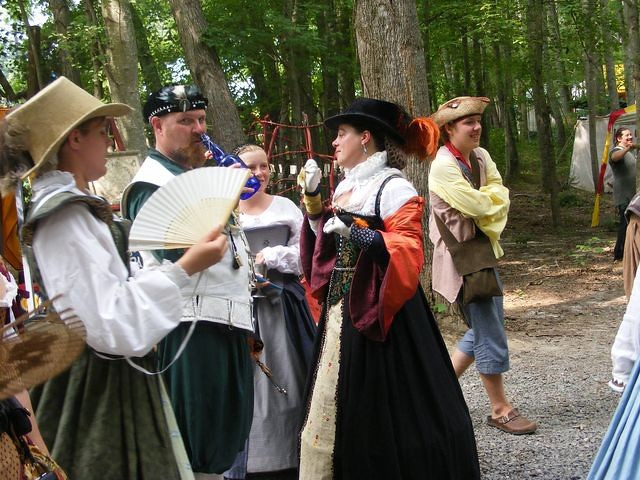bad: (232, 151, 275, 194)
